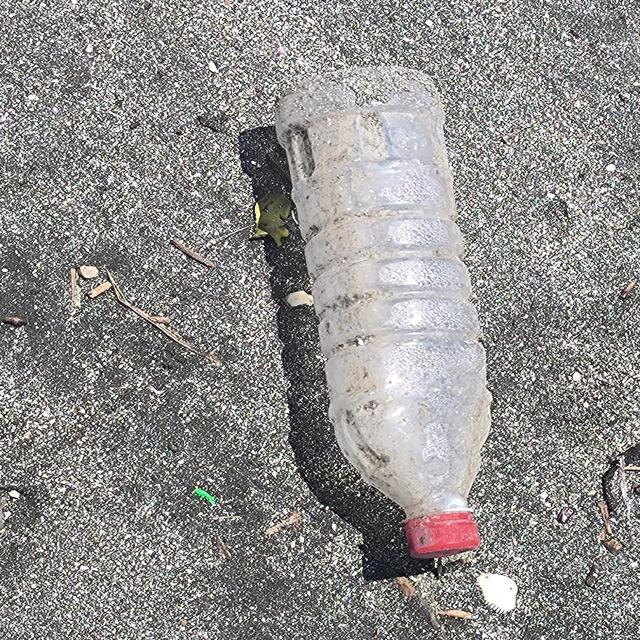plastic_waste: (275, 68, 495, 558)
